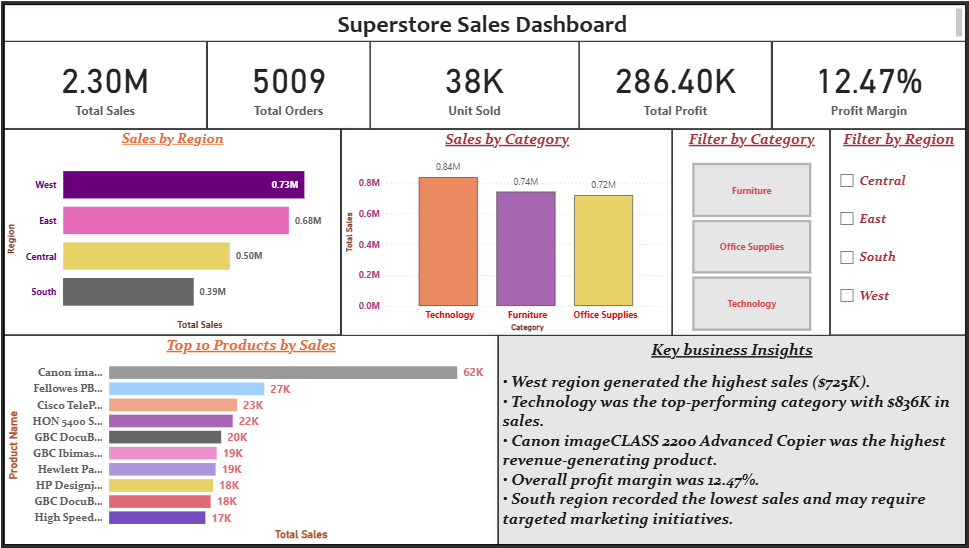

What the dashboard file says about the page in this screenshot:
{"tool":"powerbi","page":{"name":"Page 1","canvas":[1280,720],"ordinal":0},"visuals":[{"type":"card","fields":{"Values":["Sample - Superstore.Total sales"]},"box":[0,49.2,271,116.9],"z":0},{"type":"card","fields":{"Values":["Sample - Superstore.Total profit"]},"box":[765.2,49.2,256.4,116.9],"z":1000},{"type":"card","fields":{"Values":["Sample - Superstore.total Quantity"]},"box":[487.5,49.2,277.6,116.9],"z":2000},{"type":"card","fields":{"Values":["Sample - Superstore.Total orders"]},"box":[271,49.2,216.5,116.9],"z":3000},{"type":"clusteredBarChart","title":"Sales by Region","fields":{"Y":["Sample - Superstore.Total sales"],"Category":["Sample - Superstore.Region"]},"box":[0,166.5,448.7,273.9],"z":4000},{"type":"clusteredColumnChart","title":"Sales by Category","fields":{"Y":["Sample - Superstore.Total sales"],"Category":["Sample - Superstore.Category"]},"box":[449,166.1,439.7,275],"z":5000},{"type":"clusteredBarChart","title":"Top 10 Products by Sales","fields":{"Y":["Sample - Superstore.Total sales"],"Category":["Sample - Superstore.Product Name"]},"box":[0,439.7,657.6,279],"z":6000},{"type":"slicer","title":"Filter by Category","fields":{"Values":["Sample - Superstore.Category"]},"box":[888.7,166.1,209.9,276.3],"z":7000},{"type":"textbox","box":[0,0,1280,49.5],"z":8000},{"type":"card","fields":{"Values":["Sample - Superstore.profit margin"]},"box":[1021.5,49.2,257.7,116.9],"z":9000},{"type":"textbox","box":[657.6,439.7,623,279],"z":10000},{"type":"slicer","title":"Filter by Region","fields":{"Values":["Sample - Superstore.Region"]},"box":[1098.6,166.1,180.7,276.3],"z":11000}]}

Visuals, with their boxes in screenshot pixels (x1, y1, x2, y2), scaled from the page's 1280x720 canvas onto the 969x548 screenshot:
card - Sample - Superstore.Total sales: select_region(0, 37, 205, 126)
card - Sample - Superstore.Total profit: select_region(579, 37, 773, 126)
card - Sample - Superstore.total Quantity: select_region(369, 37, 579, 126)
card - Sample - Superstore.Total orders: select_region(205, 37, 369, 126)
"Sales by Region" clusteredBarChart: select_region(0, 127, 340, 335)
"Sales by Category" clusteredColumnChart: select_region(340, 126, 673, 336)
"Top 10 Products by Sales" clusteredBarChart: select_region(0, 335, 498, 547)
"Filter by Category" slicer: select_region(673, 126, 832, 337)
textbox: select_region(0, 0, 968, 38)
card - Sample - Superstore.profit margin: select_region(773, 37, 968, 126)
textbox: select_region(498, 335, 968, 547)
"Filter by Region" slicer: select_region(832, 126, 968, 337)
